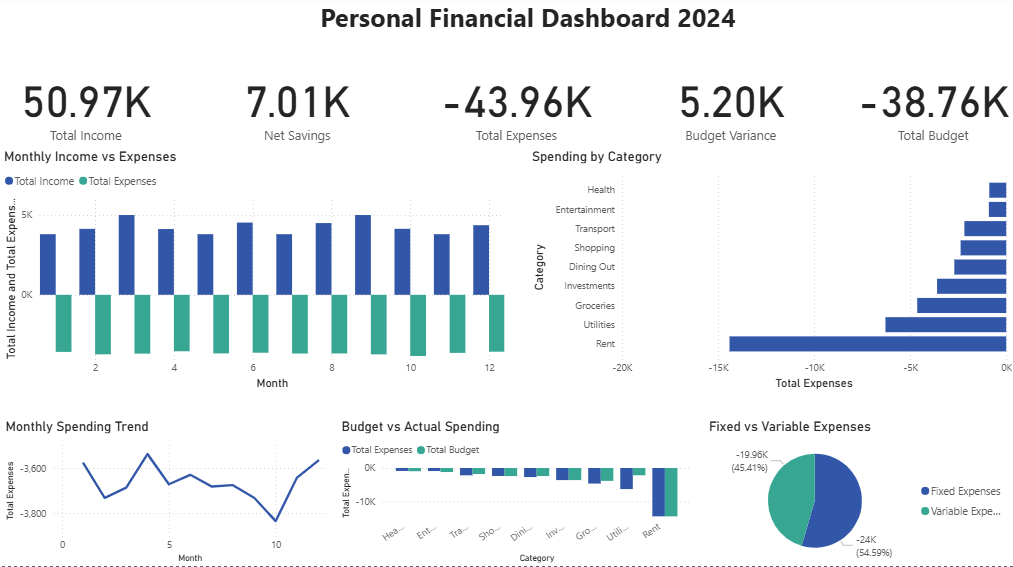

The page's visual inventory and layout, read from the dashboard file:
{"tool":"powerbi","page":{"name":"Page 1","canvas":[1280,720],"ordinal":0},"visuals":[{"type":"card","fields":{"Values":["personal_finance_cleaned.Net Savings"]},"box":[277.8,83.2,192.8,109.6],"z":0},{"type":"card","fields":{"Values":["personal_finance_cleaned.Total Expenses"]},"box":[544.3,83.2,211.7,109.6],"z":1000},{"type":"card","fields":{"Values":["personal_finance_cleaned.Total Income"]},"box":[1.2,83.2,211.7,109.6],"z":2000},{"type":"card","fields":{"Values":["personal_finance_cleaned.Total Budget"]},"box":[1069.6,83.2,211.7,109.6],"z":3000},{"type":"card","fields":{"Values":["personal_finance_cleaned.Budget Variance"]},"box":[818.3,83.2,204.1,109.6],"z":4000},{"type":"clusteredColumnChart","title":"Monthly Income vs Expenses","fields":{"Category":["personal_finance_cleaned.Month"],"Y":["personal_finance_cleaned.Total Income","personal_finance_cleaned.Total Expenses"]},"box":[0,192.8,640.6,308],"z":5000},{"type":"clusteredBarChart","title":"Spending  by Category","fields":{"Category":["personal_finance_cleaned.Category"],"Y":["personal_finance_cleaned.Total Expenses"]},"box":[665.2,192.8,614.2,308],"z":6000},{"type":"lineChart","title":"Monthly Spending Trend","fields":{"Category":["personal_finance_cleaned.Month"],"Y":["personal_finance_cleaned.Total Expenses"]},"box":[1.9,532.9,413.9,187.1],"z":7000},{"type":"clusteredColumnChart","title":"Budget vs Actual Spending","fields":{"Y":["personal_finance_cleaned.Total Expenses","personal_finance_cleaned.Total Budget"],"Category":["personal_finance_cleaned.Category"]},"box":[425.2,532.9,449.8,187.1],"z":8000},{"type":"pieChart","title":"Fixed vs Variable Expenses","fields":{"Y":["personal_finance_cleaned.Fixed Expenses","personal_finance_cleaned.Variable Expenses"]},"box":[888.2,532.9,391.2,187.1],"z":9000},{"type":"textbox","box":[368.5,0,593.4,69.9],"z":10000}]}

Visuals, with their boxes in screenshot pixels (x1, y1, x2, y2), scaled from the page's 1280x720 canvas onto the 1013x567 screenshot:
card - personal_finance_cleaned.Net Savings: Rect(220, 66, 372, 152)
card - personal_finance_cleaned.Total Expenses: Rect(431, 66, 598, 152)
card - personal_finance_cleaned.Total Income: Rect(1, 66, 168, 152)
card - personal_finance_cleaned.Total Budget: Rect(846, 66, 1012, 152)
card - personal_finance_cleaned.Budget Variance: Rect(648, 66, 809, 152)
"Monthly Income vs Expenses" clusteredColumnChart: Rect(0, 152, 507, 394)
"Spending  by Category" clusteredBarChart: Rect(526, 152, 1012, 394)
"Monthly Spending Trend" lineChart: Rect(2, 420, 329, 566)
"Budget vs Actual Spending" clusteredColumnChart: Rect(337, 420, 692, 566)
"Fixed vs Variable Expenses" pieChart: Rect(703, 420, 1012, 566)
textbox: Rect(292, 0, 761, 55)
